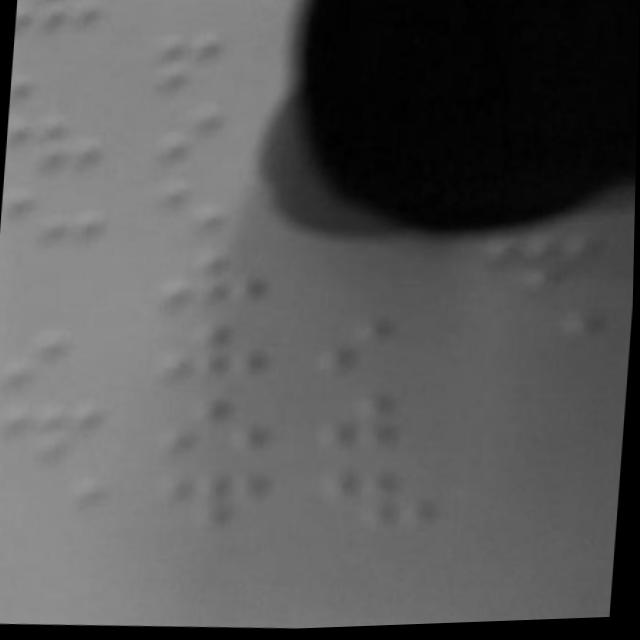braiile: (309, 306, 456, 389), (312, 385, 462, 463), (310, 461, 461, 538), (152, 241, 292, 324), (157, 317, 296, 398), (155, 393, 288, 476), (147, 99, 291, 175), (146, 461, 286, 538), (0, 322, 131, 397), (146, 172, 280, 245), (0, 396, 120, 476), (6, 188, 126, 265)
